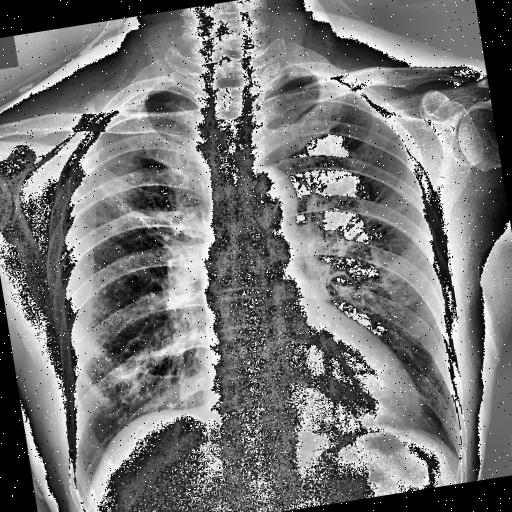13- Pulmonary fibrosis: (72, 150, 183, 264), (76, 156, 164, 247), (72, 159, 153, 243)
3- Cardiomegaly: (203, 328, 421, 456), (200, 340, 426, 458)
